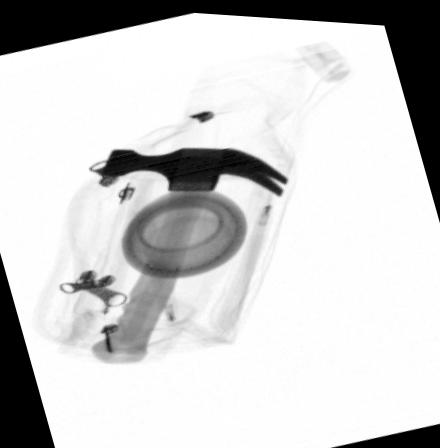Hammer: (90, 142, 289, 362)
